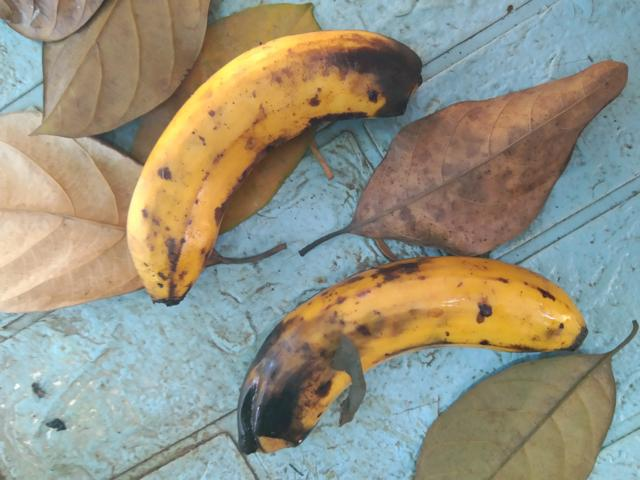overripe: (103, 30, 348, 306), (320, 234, 628, 389)
rotten: (200, 297, 403, 476), (303, 12, 439, 129)
